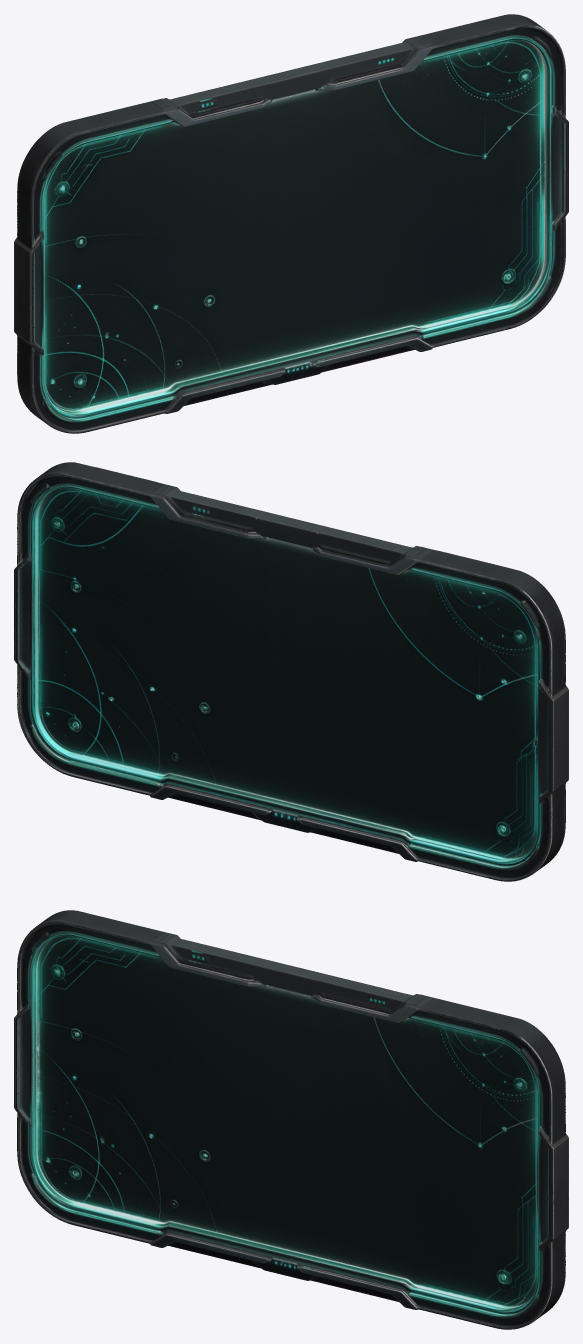
The model's file is Meshy_AI_contact_card_0624135322_image-to-3d-texture.glb.
3 views of the same model, one above another, from view 1: azimuth 30°, elevation 25°; view 2: azimuth 150°, elevation 25°; view 3: azimuth 330°, elevation 25° (orthographic).
Bounding box in the file's own units: 1.9 × 1.02 × 0.102.
1 material, 1 textured.
